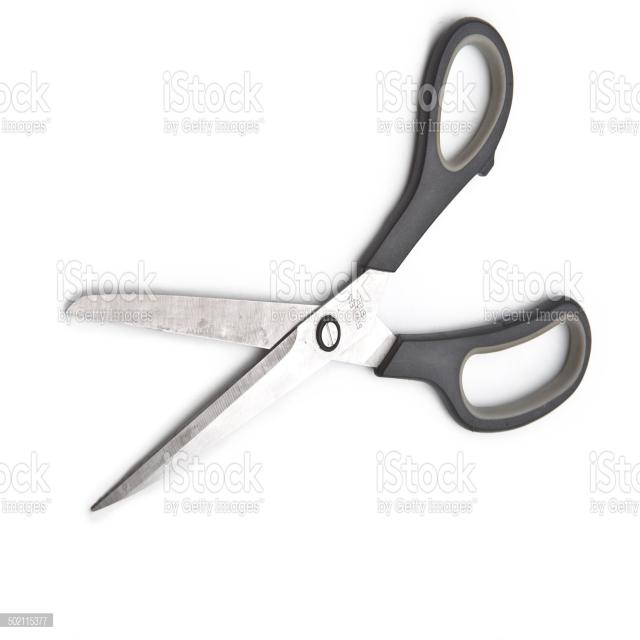Gunting: (67, 5, 600, 529)
